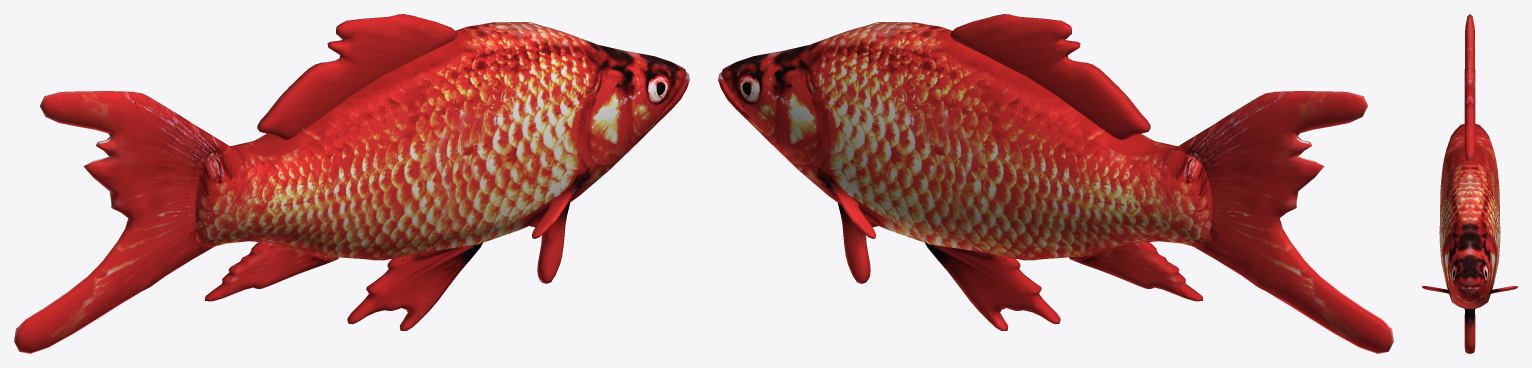
Rendered from fish.dae.
3 renders of one model, left to right at view 1: azimuth 30°, elevation 25°; view 2: azimuth 150°, elevation 25°; view 3: azimuth 270°, elevation 25°, orthographic. The views are drawn at different scales.
Parts seen in each view (by area): view 1: fish; view 2: fish; view 3: fish.
Boxes of the visible parts, x1,y1,x2,y2 form: fish: (14, 14, 689, 353); fish: (718, 14, 1393, 353); fish: (1422, 14, 1517, 353).
Bounding box in the file's own units: 6.34 × 1.27 × 2.91.
1 material, 1 textured.
